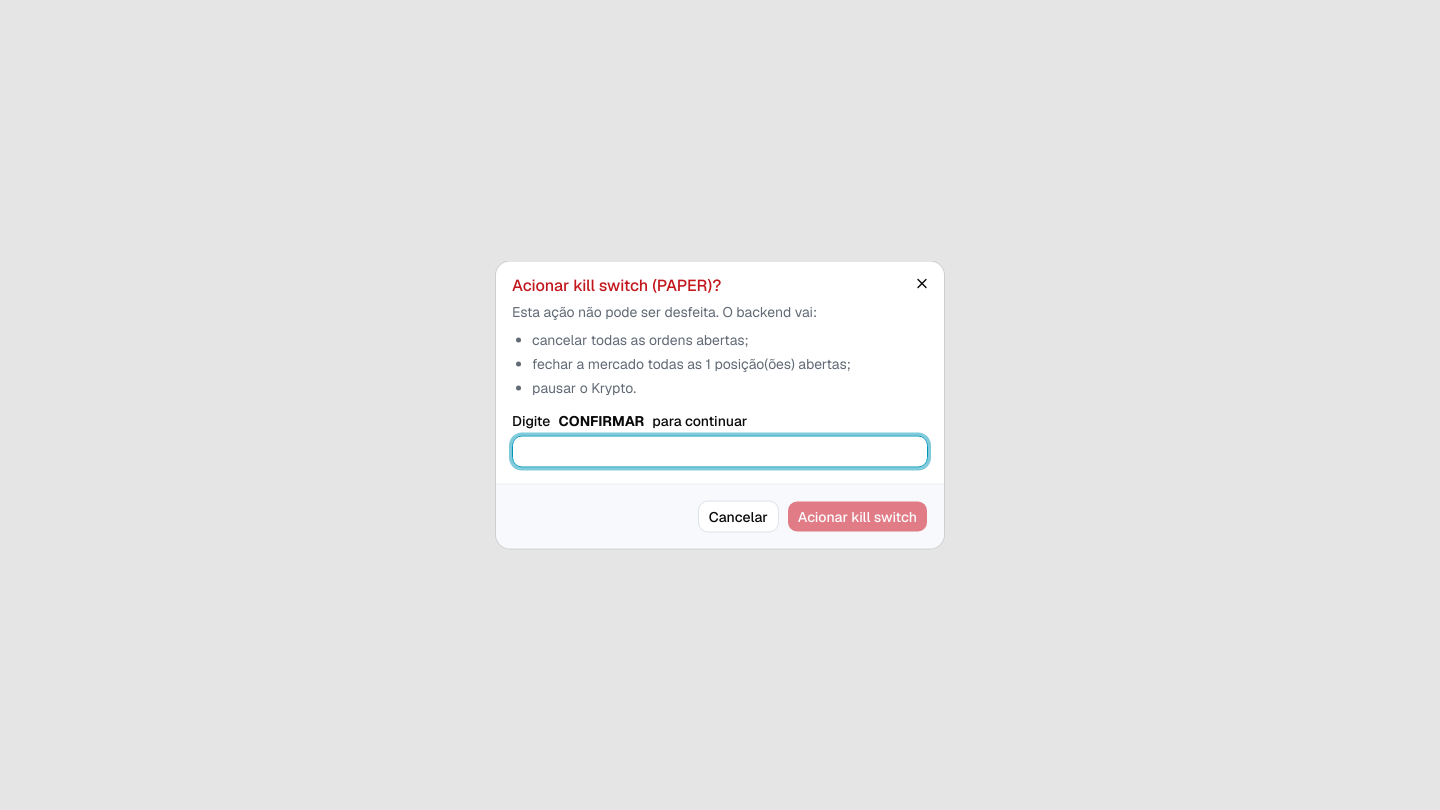
Test: KillSwitchDialog › only enables the action after typing CONFIRMAR, then shows the backend result
expect the button "Acionar kill switch" is disabled: met, box [787,500,928,532]
Type "confirmar" into the field labelled "Digite CONFIRMAR para continuar" at (720, 452), box [512,436,928,468]
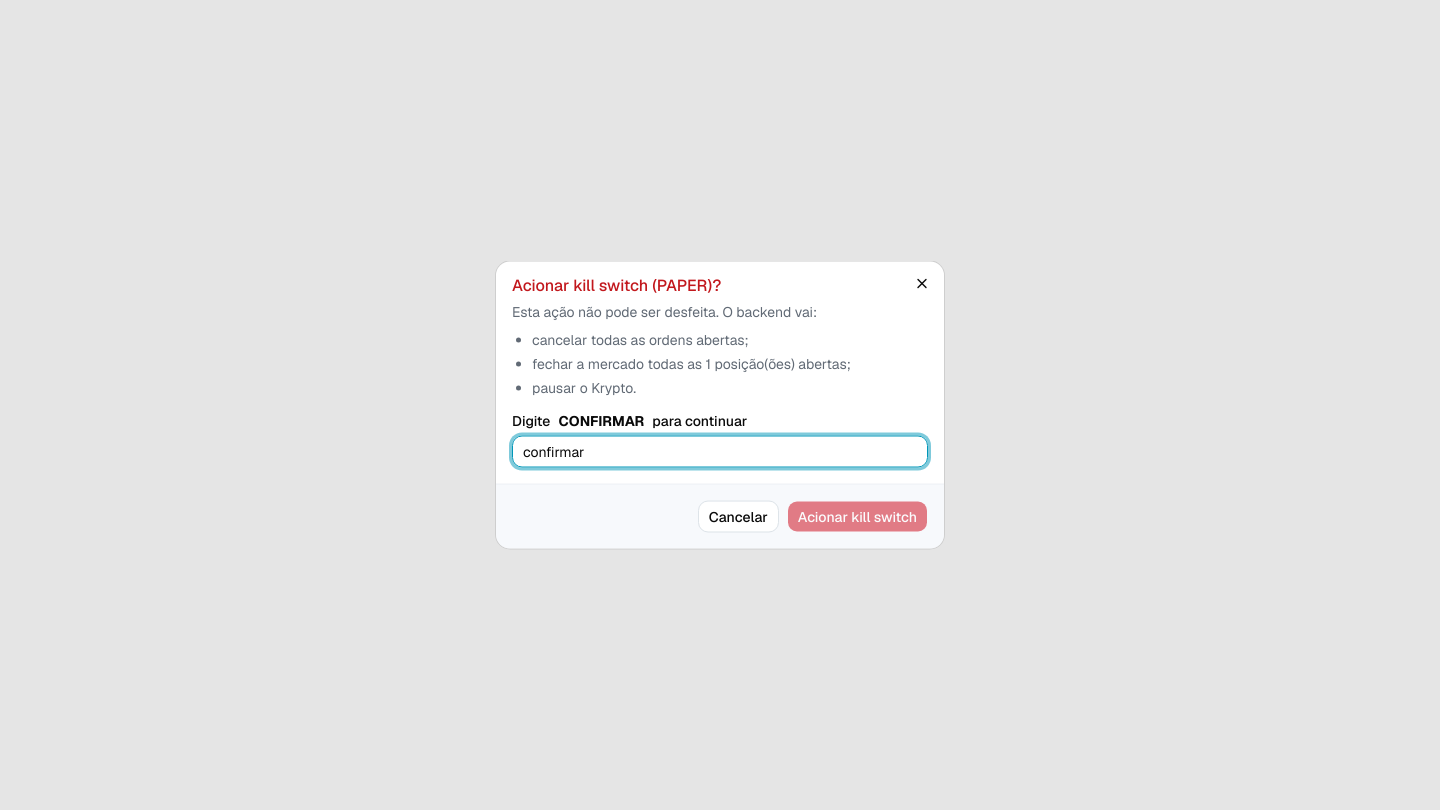
expect the button "Acionar kill switch" is disabled: met, box [787,500,928,532]
Replace the text in the field labelled "Digite CONFIRMAR para continuar" with "CONFIRMAR" at (720, 452), box [512,436,928,468]
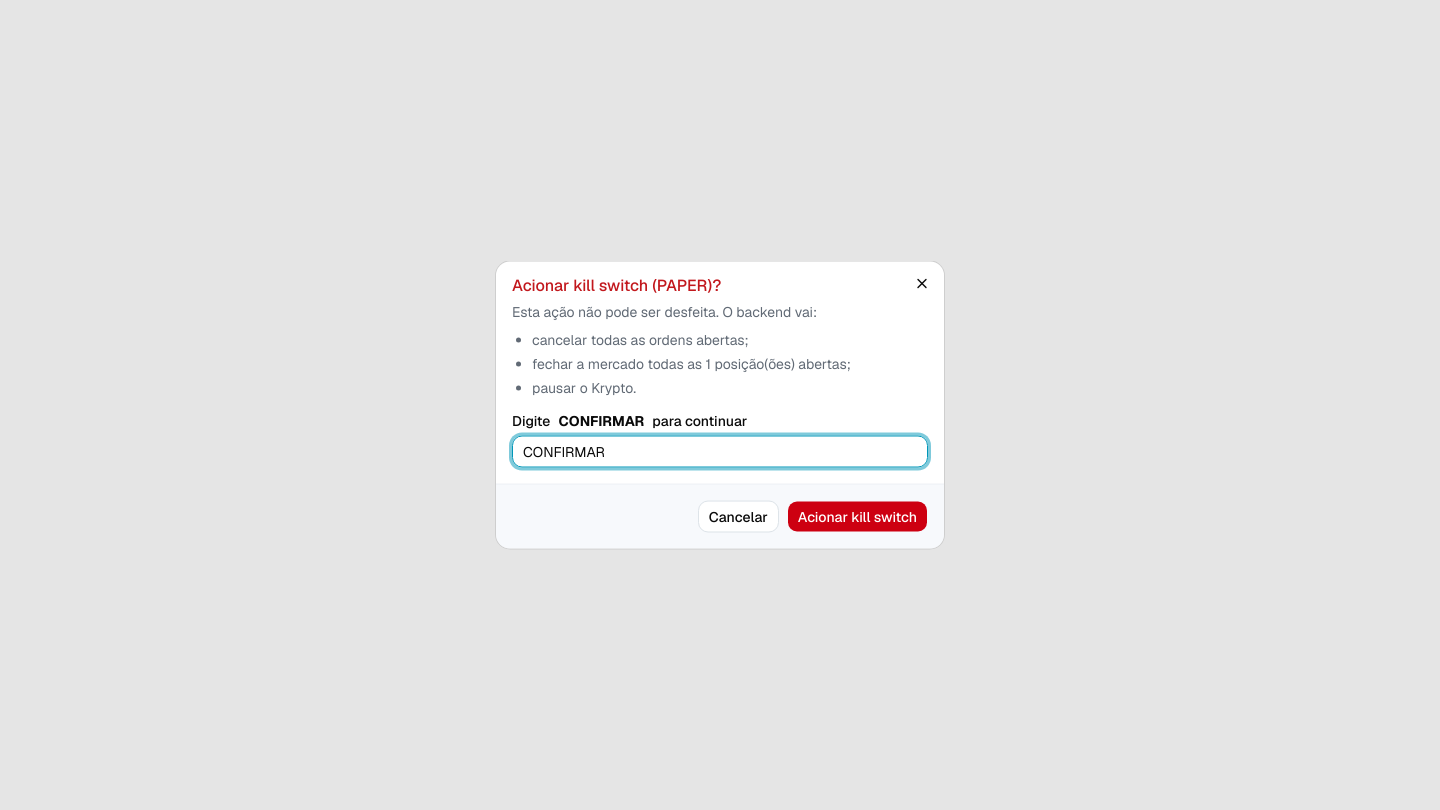
expect the button "Acionar kill switch" is enabled: met
Click the button "Acionar kill switch" at (857, 516), box [787,500,928,532]
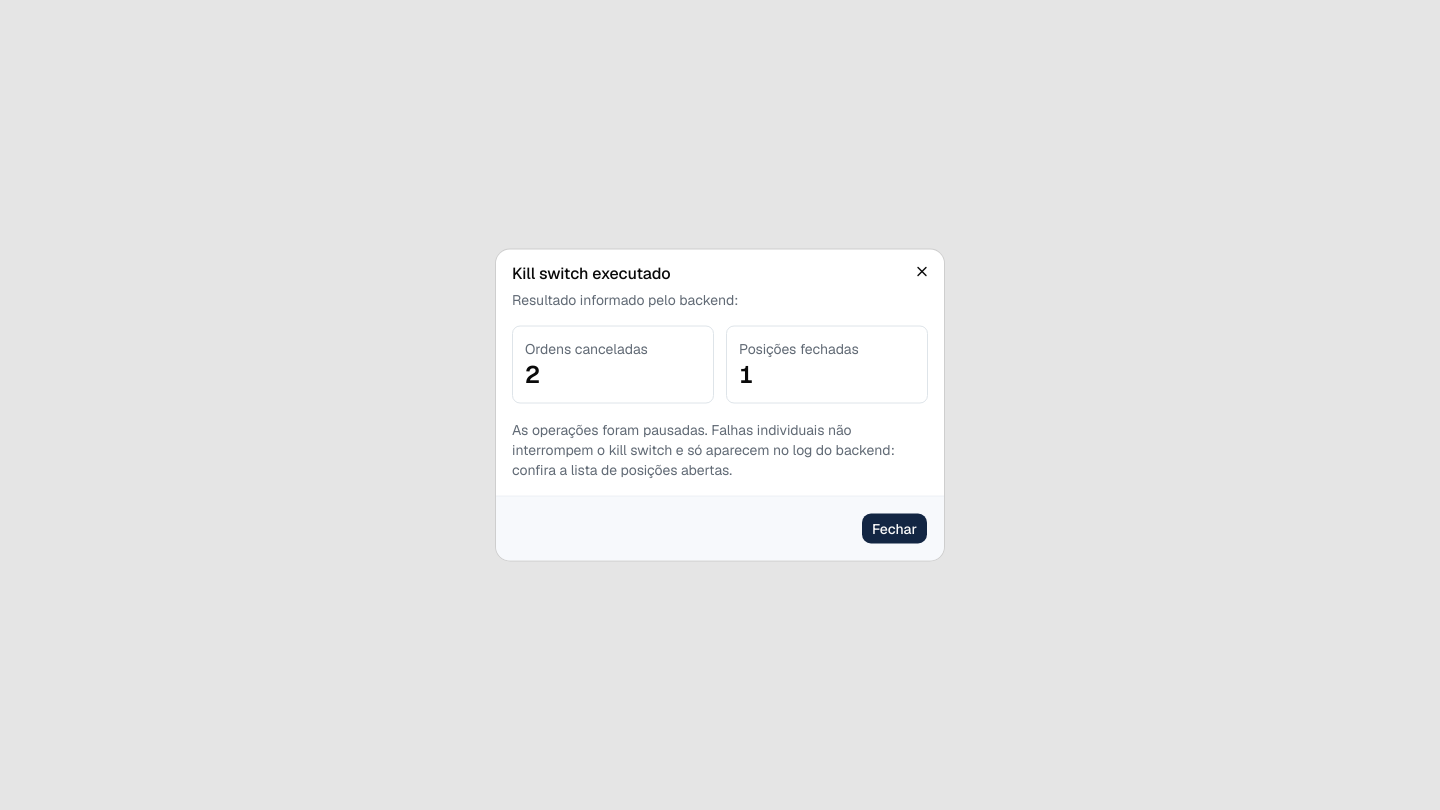
expect the text "1" is shown: met, box [739,358,754,390]
expect the heading "Kill switch executado" is shown: met, box [512,262,671,284]
expect the text "2" is shown: met, box [525,358,540,390]
